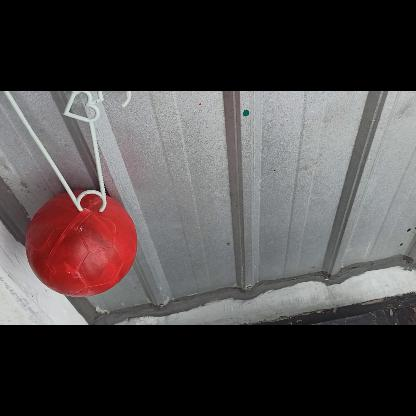red_ball: (27, 187, 139, 299)
